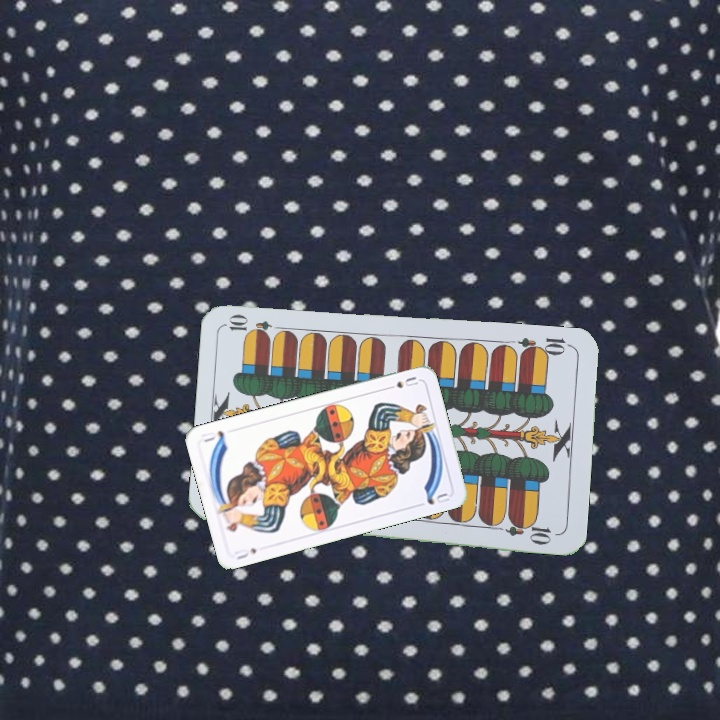E10: (515, 333, 574, 360)
SU: (381, 372, 421, 393), (231, 544, 259, 562)
